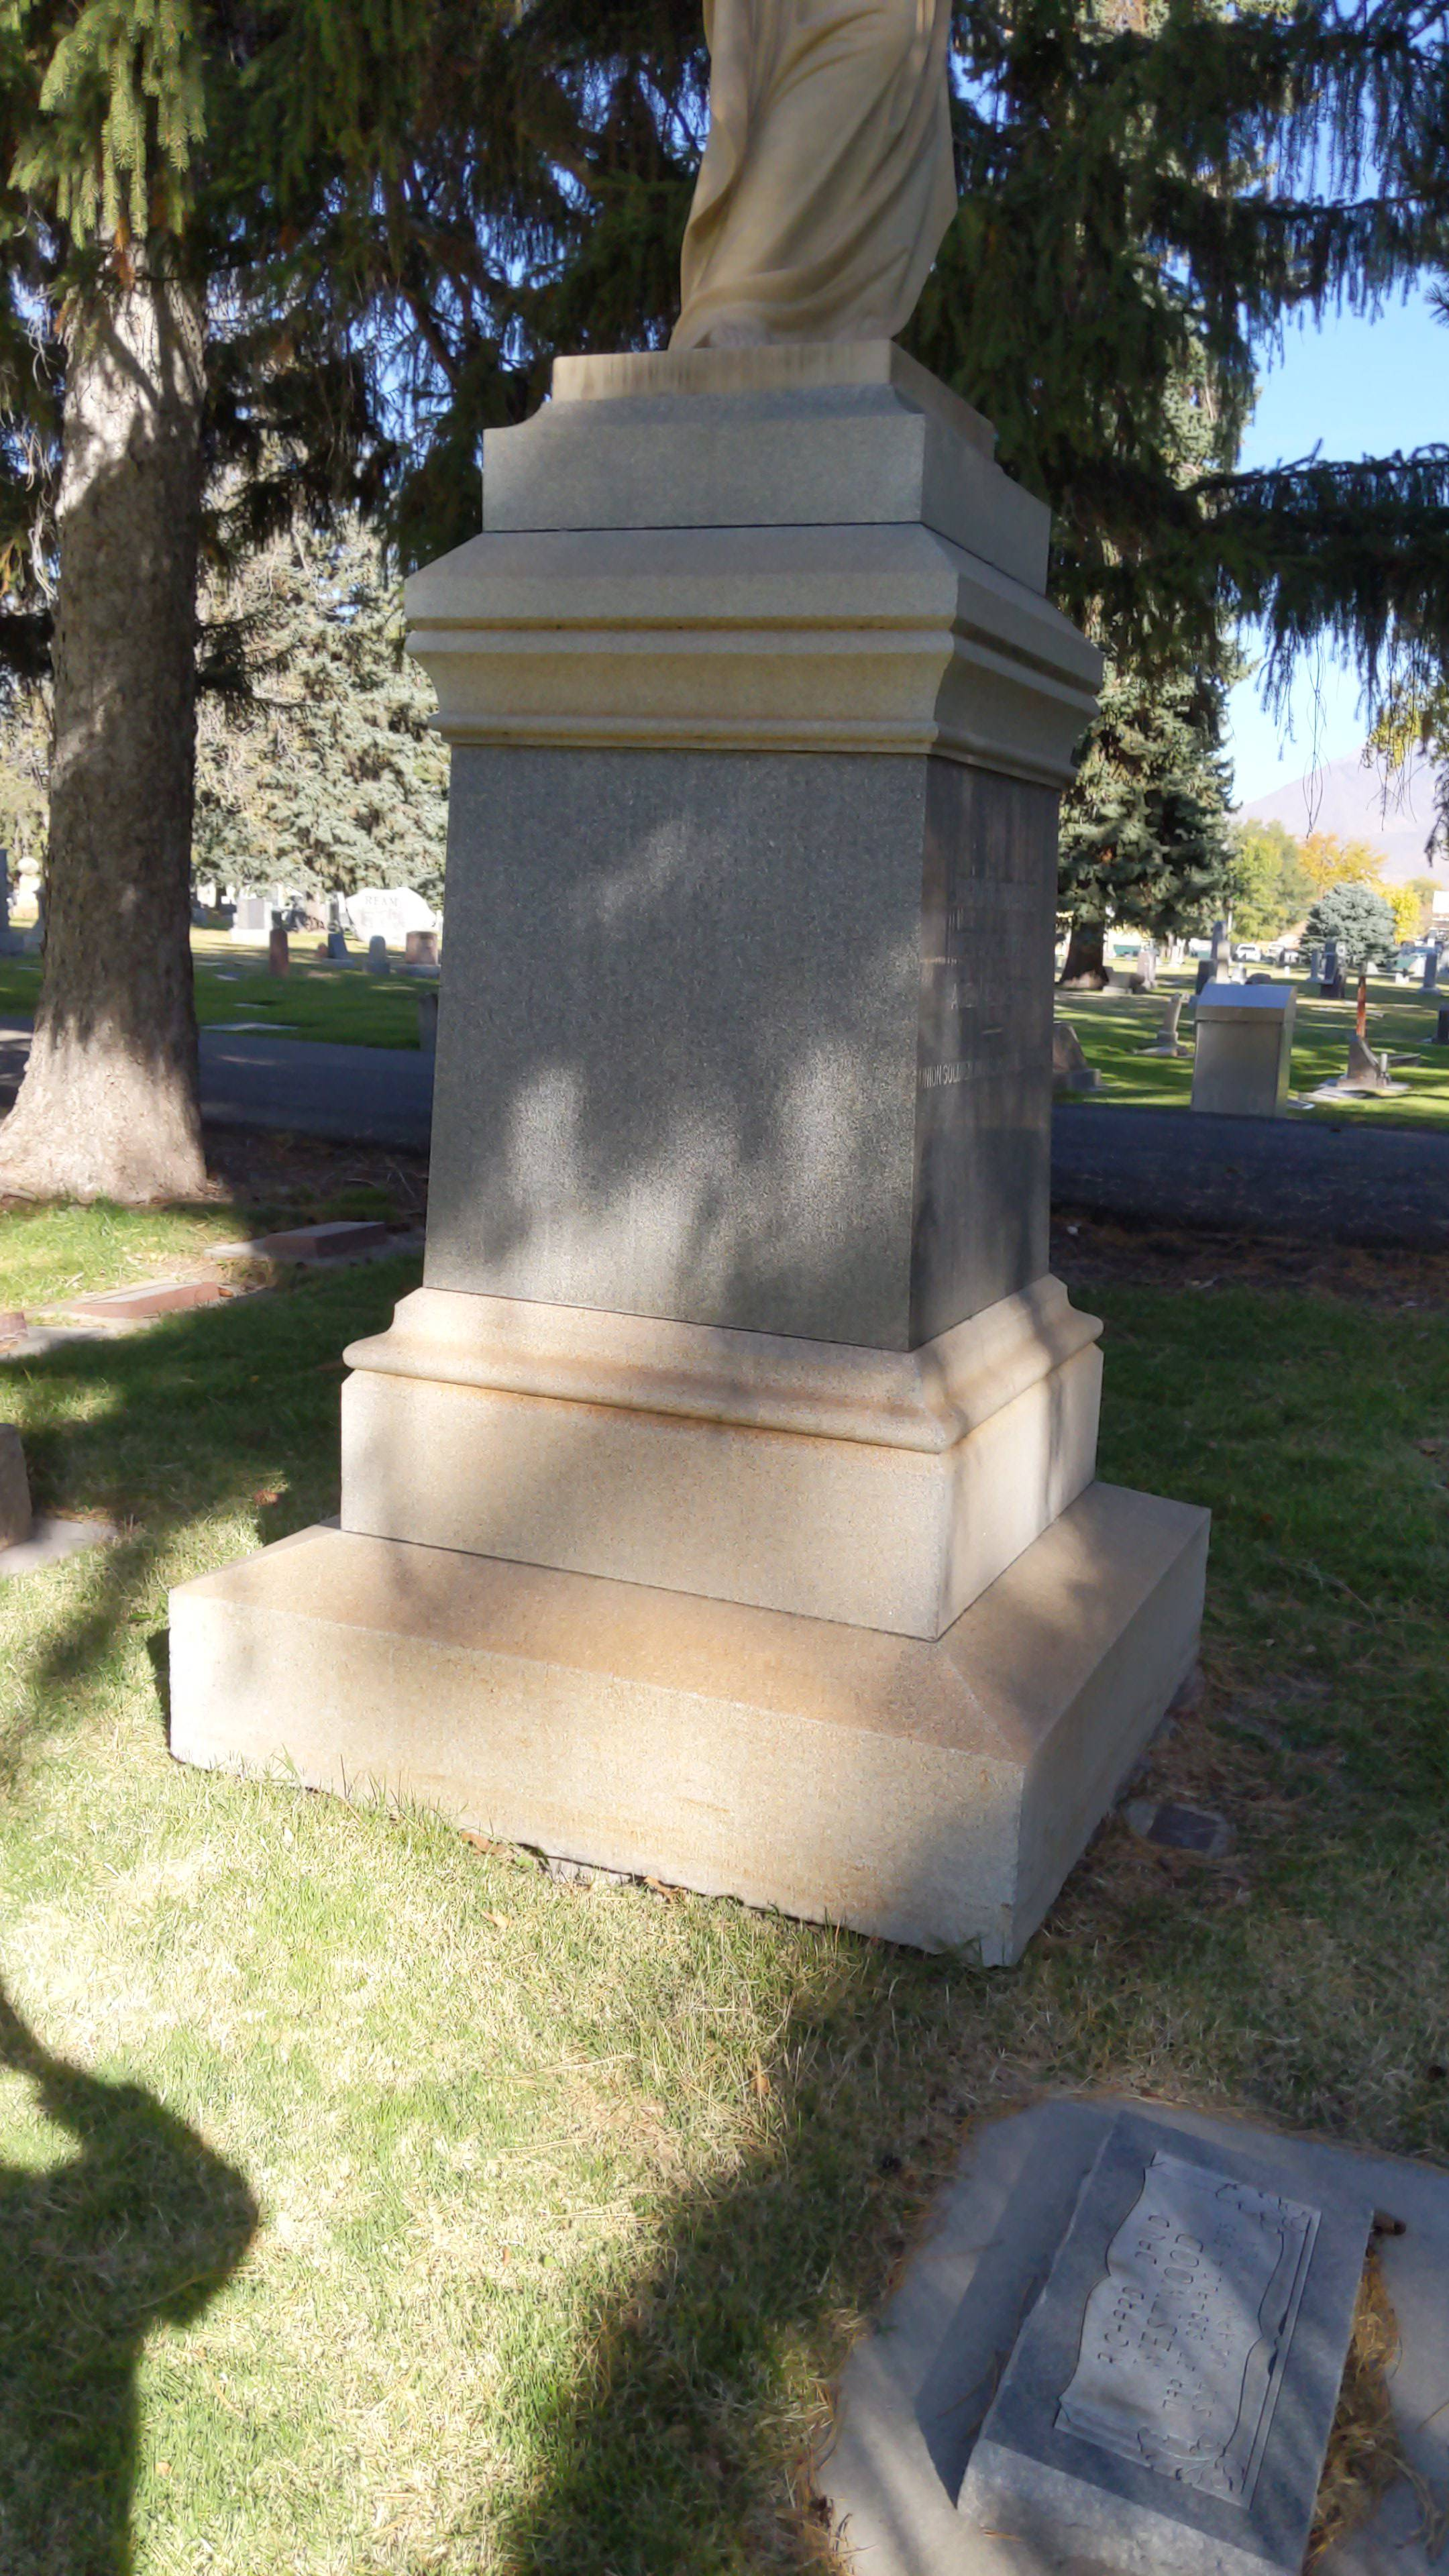obelisk: (336, 347, 1099, 1626)
